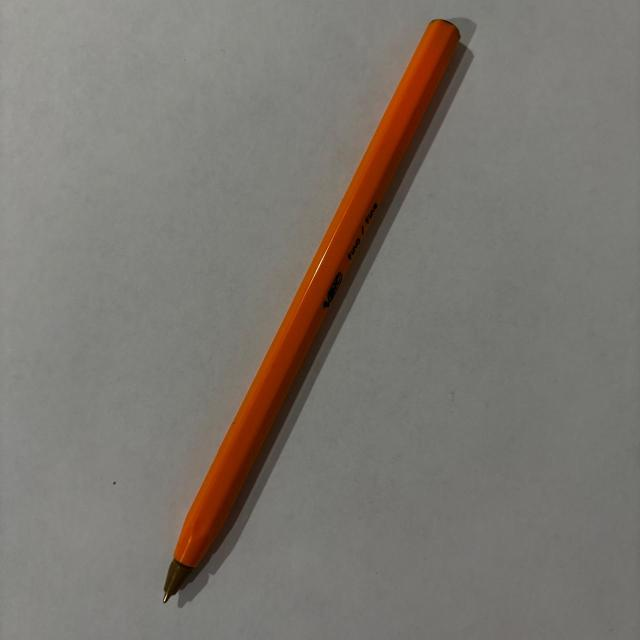pencil: (163, 19, 462, 604)
